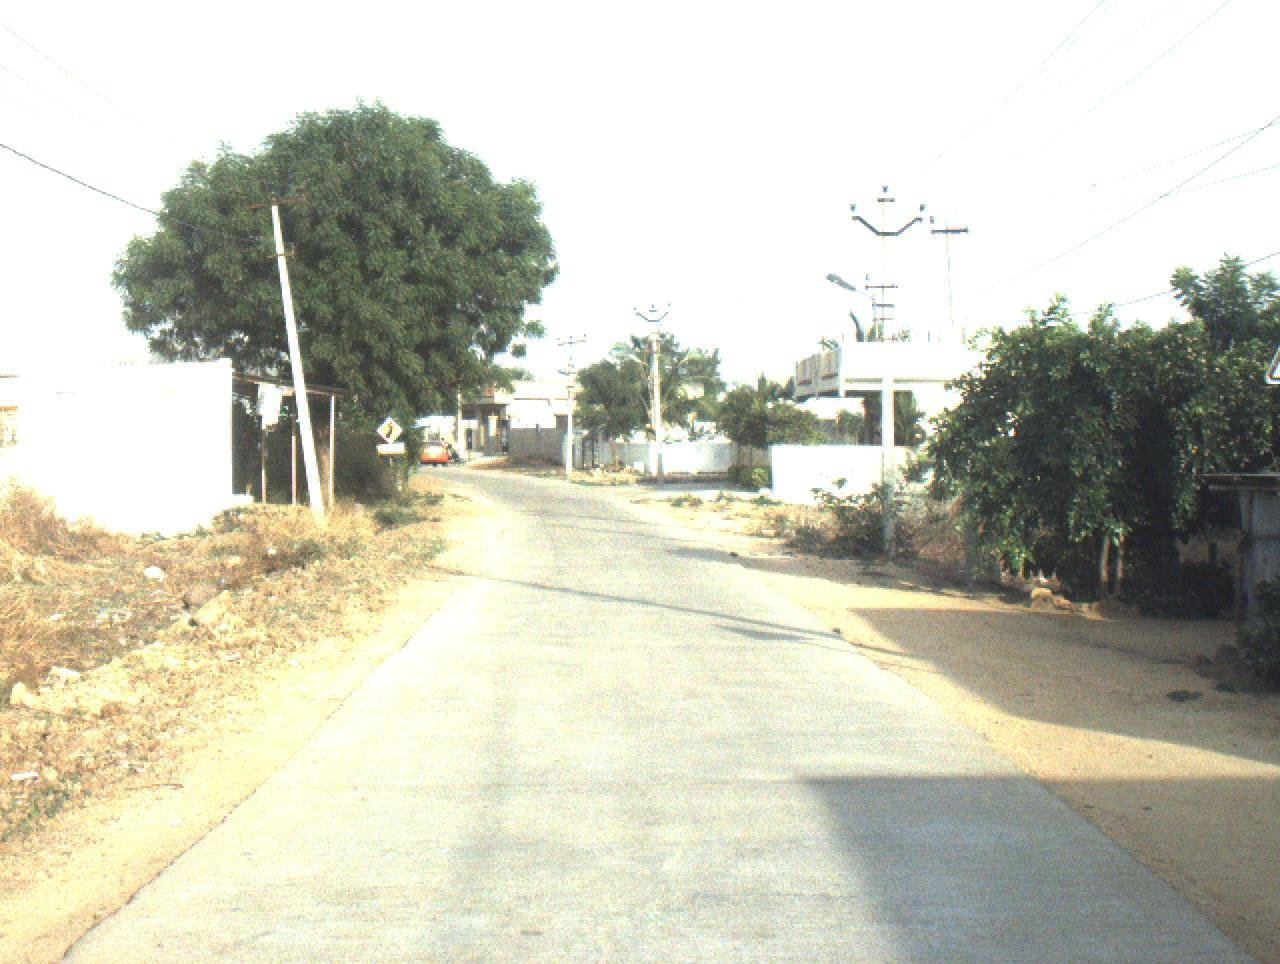off: (0, 6, 1271, 964)
